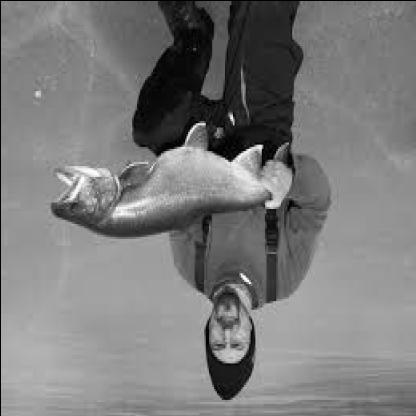fish: (52, 119, 291, 248)
